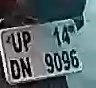0: (54, 51, 63, 73)
1: (51, 27, 62, 48)
4: (59, 25, 71, 46)
6: (68, 47, 80, 69)
9: (61, 52, 71, 71), (45, 53, 54, 73)
D: (8, 57, 21, 80)
N: (19, 57, 32, 78)
P: (22, 31, 34, 53)
U: (10, 32, 23, 55)
